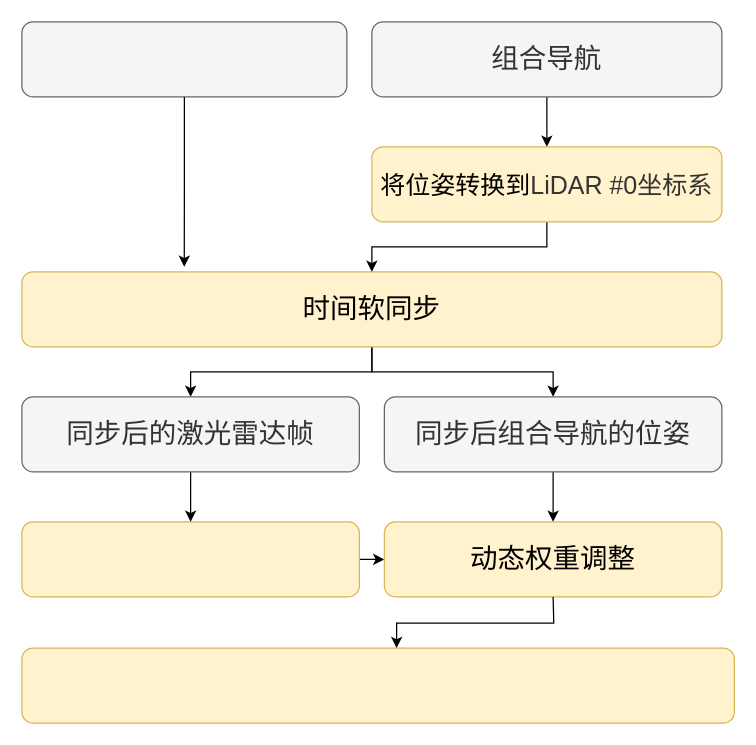
This 756x745 diagram has some shape labels left out. Each missing label, with the centre of its shape:
"LiDAR 里程计 (GICP)" goes at pixel 190 559.
"无人船位姿更新" goes at pixel 377 685.
"激光雷达" goes at pixel 184 59.
